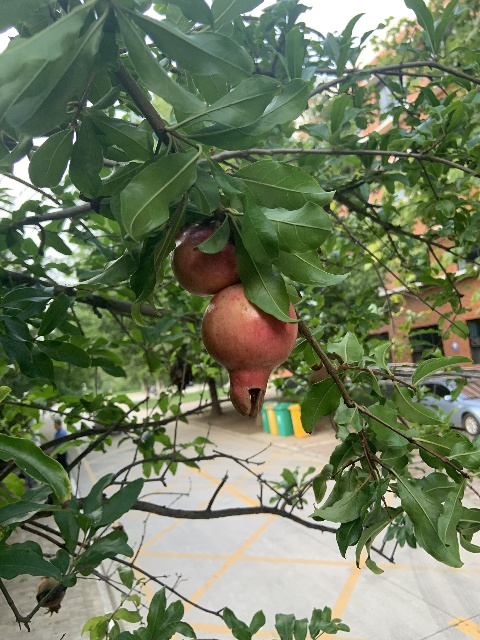ripe: (201, 282, 297, 418), (170, 220, 240, 296)
